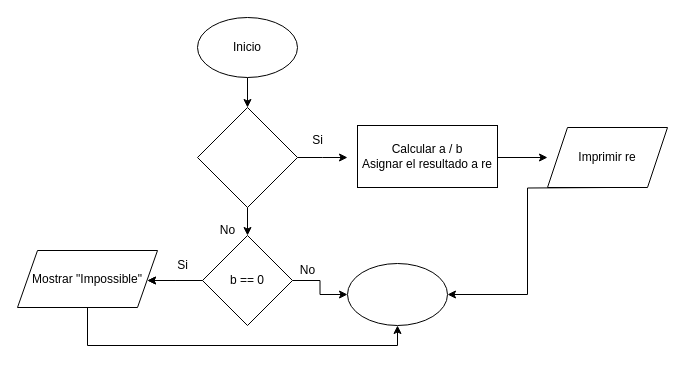
Image size: 685x371. Some labels were removed from this diagram. Here are the shapes that lost their labels. From the top down, the centre of each, then its label:
pixel 247 157: a>0 && b>0
pixel 397 294: Fin
